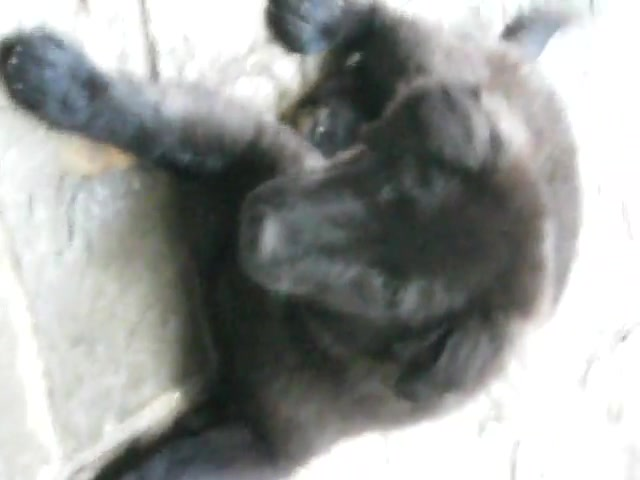dog: (3, 2, 603, 480)
